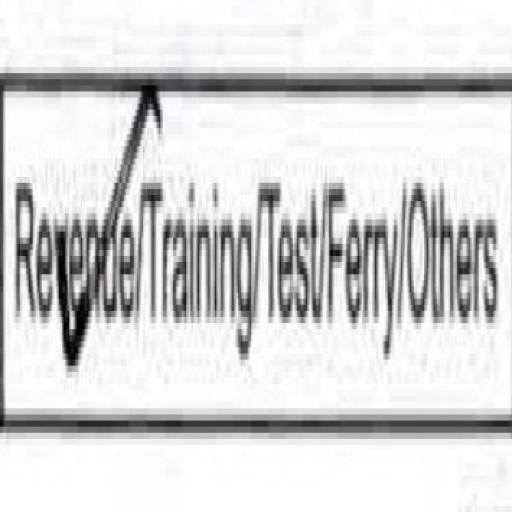check: (3, 16, 140, 448)
